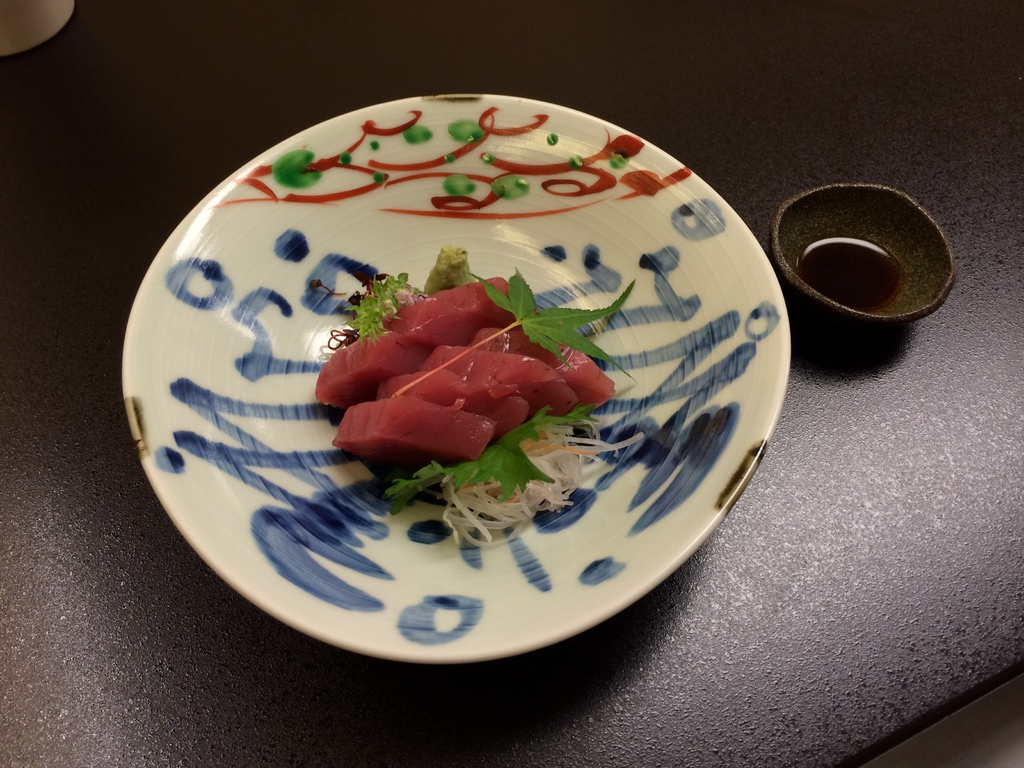plate: (170, 71, 779, 620)
